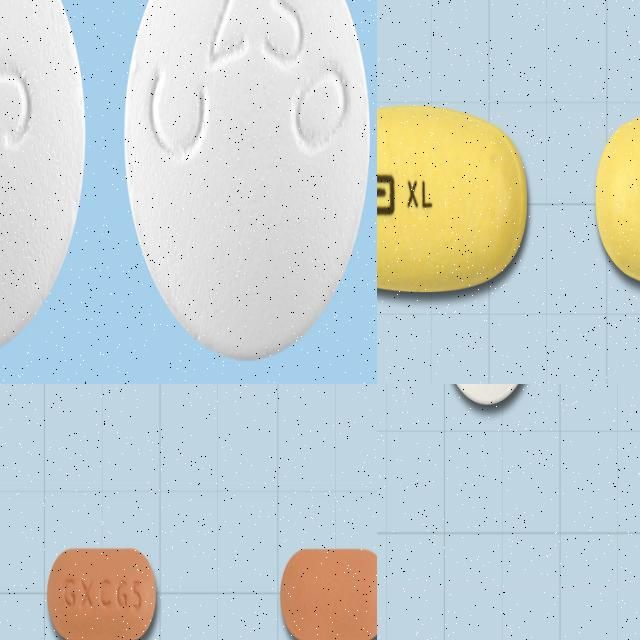Klaricid-Xl: (377, 104, 529, 294), (594, 104, 640, 293)
RP Ciprok Tab: (123, 0, 370, 358), (0, 0, 86, 355)
Ziagen Tab: (45, 547, 158, 640), (280, 547, 377, 640)
